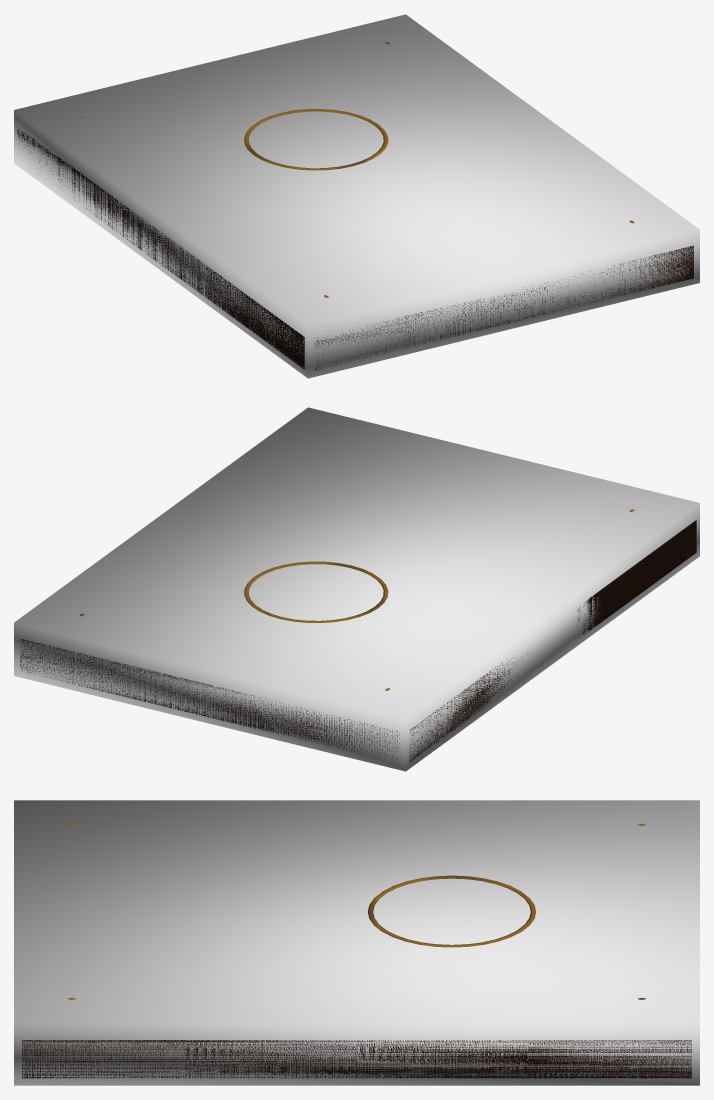
File: icono.glb
3 views of the same model, one above another, from view 1: azimuth 30°, elevation 25°; view 2: azimuth 150°, elevation 25°; view 3: azimuth 270°, elevation 25° (orthographic). The views are drawn at different scales.
Parts seen in each view (by area): view 1: icono-colcaja, tabla, cubierta; view 2: icono-colcaja, tabla, cubierta; view 3: icono-colcaja, tabla, cubierta.
Boxes of the visible parts, left/top/right/bottom form: icono-colcaja: left=14, top=14, right=699, bottom=378; tabla: left=17, top=127, right=693, bottom=370; cubierta: left=79, top=41, right=634, bottom=297; icono-colcaja: left=14, top=407, right=699, bottom=771; tabla: left=20, top=520, right=696, bottom=762; cubierta: left=79, top=434, right=634, bottom=690; icono-colcaja: left=14, top=800, right=699, bottom=1085; tabla: left=22, top=1040, right=691, bottom=1078; cubierta: left=68, top=824, right=645, bottom=999.
Bounding box in the file's own units: 0.2 × 0.0265 × 0.26.
